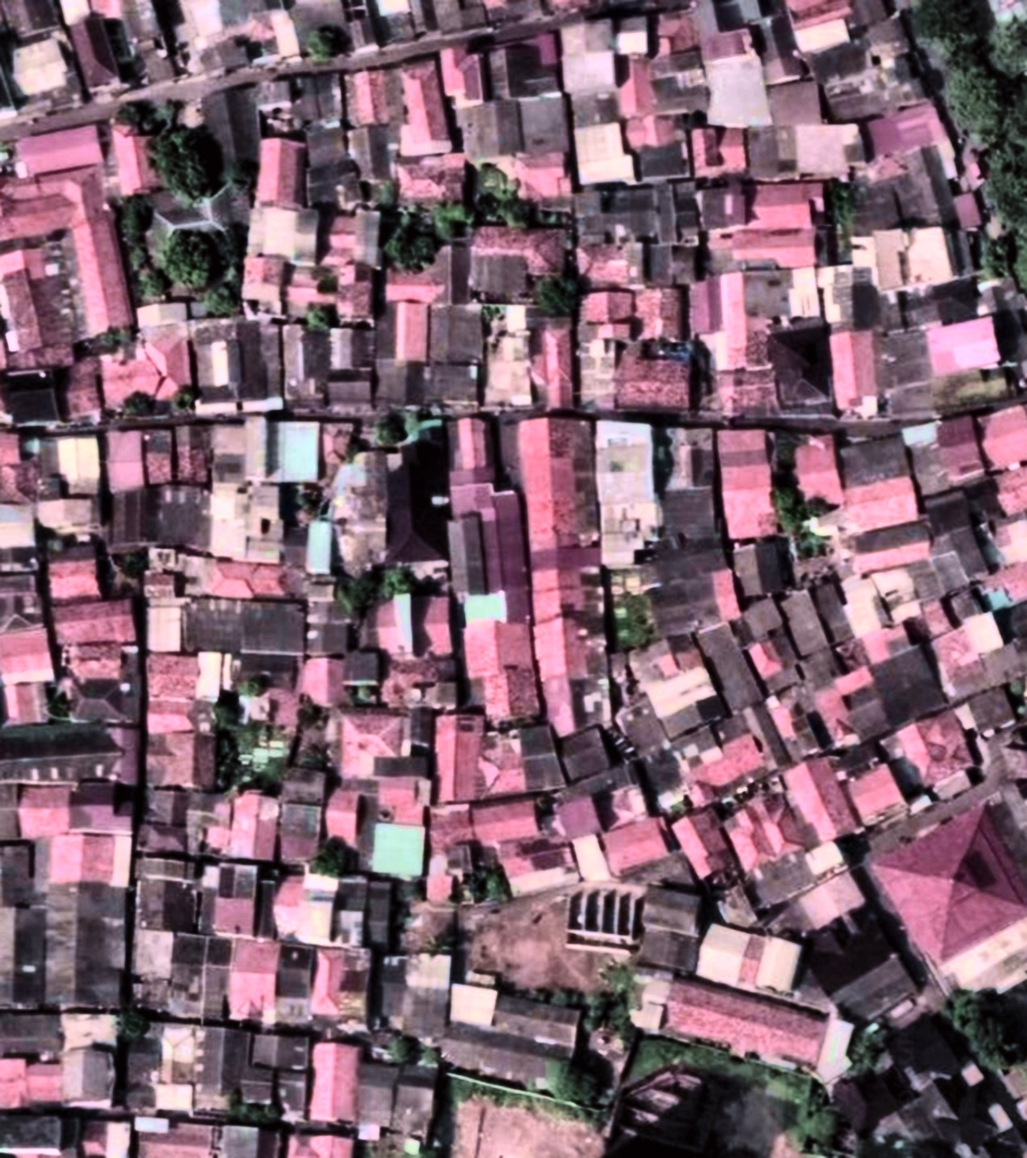building: (867, 800, 1027, 1018), (517, 414, 616, 738), (0, 164, 140, 373), (678, 263, 800, 425), (321, 439, 457, 576), (432, 981, 584, 1096), (796, 903, 924, 1037), (658, 973, 831, 1072), (0, 884, 131, 1008), (804, 12, 930, 136), (447, 480, 563, 609), (878, 316, 1016, 421), (57, 164, 137, 336), (887, 493, 1001, 608), (236, 247, 379, 333), (591, 416, 664, 569), (844, 148, 962, 237), (924, 605, 1027, 704), (129, 926, 235, 1022), (850, 219, 980, 297), (829, 432, 925, 536), (459, 614, 544, 729), (726, 591, 817, 698), (87, 0, 183, 97), (692, 920, 806, 1001), (572, 180, 702, 250), (922, 1063, 1017, 1158), (765, 865, 871, 949), (745, 834, 856, 913), (718, 784, 812, 877), (777, 749, 863, 850), (880, 1008, 971, 1101), (656, 425, 723, 550), (829, 1054, 924, 1142), (0, 723, 135, 784), (192, 318, 284, 406), (893, 703, 983, 792), (294, 871, 394, 951), (470, 721, 568, 801), (630, 626, 718, 715), (645, 565, 746, 641), (808, 664, 894, 753), (865, 641, 951, 730), (388, 944, 464, 1044), (183, 596, 309, 656), (0, 34, 85, 122), (693, 618, 768, 716), (203, 478, 288, 564), (715, 425, 778, 541), (835, 559, 924, 641), (470, 226, 566, 302), (187, 787, 281, 862), (338, 708, 432, 780), (354, 1060, 440, 1138), (649, 670, 734, 748), (766, 322, 835, 417), (379, 953, 454, 1040), (175, 553, 299, 605), (637, 883, 707, 973), (365, 592, 456, 661), (668, 802, 740, 887), (686, 728, 771, 800), (198, 85, 267, 172), (394, 58, 455, 156), (761, 683, 832, 767), (596, 808, 679, 879), (495, 827, 579, 897), (0, 173, 85, 241), (837, 472, 924, 537), (275, 765, 331, 865), (12, 122, 108, 180), (70, 650, 144, 725), (191, 1025, 252, 1115), (565, 884, 641, 956), (847, 517, 937, 577), (865, 101, 950, 164), (485, 38, 563, 106), (614, 349, 696, 413), (868, 1101, 960, 1158), (309, 945, 374, 1025), (224, 936, 283, 1024), (898, 420, 962, 501), (198, 860, 264, 938), (93, 344, 168, 412), (558, 20, 624, 97), (485, 304, 534, 407), (817, 260, 885, 334), (245, 418, 322, 483), (300, 570, 359, 654), (448, 417, 498, 516), (930, 317, 1009, 379), (842, 759, 911, 829), (308, 1039, 364, 1125), (184, 0, 296, 43), (509, 719, 570, 797), (68, 15, 126, 97), (51, 597, 140, 650), (789, 431, 847, 512), (47, 831, 132, 886), (282, 322, 335, 409), (434, 713, 485, 803), (529, 318, 578, 411), (728, 533, 795, 601), (709, 57, 774, 127), (648, 534, 732, 588), (248, 205, 322, 266), (144, 730, 218, 790), (691, 0, 756, 68), (907, 274, 983, 332), (929, 624, 988, 698), (931, 412, 990, 486), (829, 328, 881, 410), (553, 722, 620, 785), (469, 794, 545, 849), (777, 585, 833, 659), (395, 151, 469, 207), (610, 694, 672, 760), (459, 99, 520, 166), (629, 114, 690, 181), (835, 570, 893, 640), (154, 484, 213, 552), (108, 120, 160, 197), (465, 248, 533, 306), (147, 193, 221, 246), (575, 123, 636, 187), (142, 326, 199, 394), (0, 368, 63, 429), (755, 181, 830, 232), (302, 156, 368, 213), (640, 747, 692, 819), (255, 136, 307, 208), (445, 513, 489, 598), (709, 880, 768, 943), (653, 50, 711, 113), (748, 122, 804, 187), (136, 878, 200, 934), (69, 781, 135, 835), (44, 547, 105, 605), (517, 97, 575, 158), (61, 1046, 118, 1108), (198, 177, 257, 236), (429, 303, 486, 364), (757, 15, 807, 84), (803, 124, 868, 177), (370, 821, 428, 880), (0, 623, 56, 684), (381, 659, 452, 707), (293, 1, 351, 59), (274, 944, 315, 1026), (440, 40, 488, 110), (53, 433, 104, 497), (574, 337, 618, 411), (373, 772, 432, 827), (576, 243, 648, 288), (714, 367, 778, 417), (123, 1030, 162, 1112), (963, 683, 1021, 738), (662, 486, 721, 540), (319, 783, 368, 848), (56, 357, 105, 422), (0, 1058, 63, 1108), (239, 253, 289, 316), (514, 151, 573, 204), (627, 970, 675, 1035), (736, 232, 818, 270), (550, 789, 607, 843), (785, 2, 851, 48), (811, 579, 856, 646), (344, 68, 395, 127), (691, 125, 748, 177), (0, 1112, 72, 1153), (981, 405, 1027, 469), (858, 618, 918, 667), (19, 784, 72, 839), (138, 1121, 216, 1158), (698, 181, 753, 233), (284, 516, 334, 573), (0, 1011, 63, 1056), (110, 488, 156, 549), (199, 32, 258, 79), (36, 495, 102, 537), (597, 779, 652, 829), (250, 1030, 313, 1073), (104, 429, 147, 492), (348, 125, 396, 181), (0, 568, 43, 630), (634, 287, 685, 339), (268, 872, 307, 939), (235, 654, 297, 696), (60, 1008, 120, 1051), (4, 0, 67, 40), (744, 269, 794, 319), (376, 357, 425, 408), (296, 73, 344, 125), (146, 653, 198, 700), (774, 82, 821, 134), (425, 363, 480, 407), (0, 680, 51, 727), (303, 121, 351, 170), (66, 644, 126, 683), (159, 1024, 197, 1085), (618, 58, 656, 119), (961, 476, 1007, 526), (142, 784, 193, 829), (570, 833, 612, 887), (300, 657, 346, 706), (435, 0, 495, 37), (216, 1125, 283, 1158), (211, 422, 247, 482), (0, 841, 33, 906), (146, 597, 185, 652), (129, 875, 170, 927), (648, 244, 700, 285), (688, 277, 724, 336), (395, 301, 430, 361), (80, 1119, 133, 1158), (175, 425, 210, 484), (142, 427, 177, 485), (329, 326, 374, 371), (655, 9, 699, 54), (580, 290, 635, 325), (442, 243, 473, 305), (385, 271, 445, 303), (567, 93, 620, 129), (353, 208, 384, 269), (984, 562, 1027, 604), (379, 0, 418, 46), (326, 369, 373, 407), (285, 1133, 355, 1158), (462, 590, 509, 626), (146, 699, 195, 733), (139, 822, 188, 856), (993, 516, 1027, 564), (136, 299, 190, 329), (946, 585, 987, 624), (0, 504, 36, 548), (996, 466, 1027, 516), (253, 78, 296, 114), (392, 592, 416, 656), (238, 1066, 276, 1106), (0, 461, 35, 504), (277, 1071, 309, 1116), (268, 692, 302, 733), (344, 651, 382, 687), (620, 15, 651, 58), (153, 1082, 194, 1113), (681, 779, 719, 812), (956, 192, 987, 232), (347, 16, 377, 55), (0, 784, 20, 842), (143, 570, 181, 599), (105, 1121, 132, 1158), (0, 547, 38, 573), (210, 341, 230, 386), (534, 33, 561, 65), (36, 474, 66, 501), (148, 547, 180, 571), (705, 646, 723, 666), (512, 601, 528, 622), (698, 634, 710, 651)
tree: (143, 114, 235, 213), (377, 204, 451, 281), (754, 474, 827, 546), (580, 958, 637, 1036), (525, 262, 592, 327), (549, 1052, 614, 1115), (159, 229, 222, 291), (785, 1082, 846, 1146), (120, 249, 179, 311), (331, 561, 390, 619), (842, 1014, 896, 1077), (479, 164, 533, 227), (198, 269, 253, 323), (305, 833, 359, 887), (432, 194, 484, 242), (910, 0, 969, 42), (209, 218, 257, 268), (112, 92, 163, 139), (379, 558, 423, 603), (111, 1001, 153, 1043), (826, 178, 858, 230), (471, 862, 511, 902), (110, 548, 149, 588), (121, 195, 153, 243), (213, 692, 247, 731), (415, 927, 455, 960), (308, 25, 345, 59), (383, 1034, 422, 1066), (150, 95, 184, 130), (374, 414, 408, 447), (172, 385, 196, 412), (305, 304, 332, 327)
